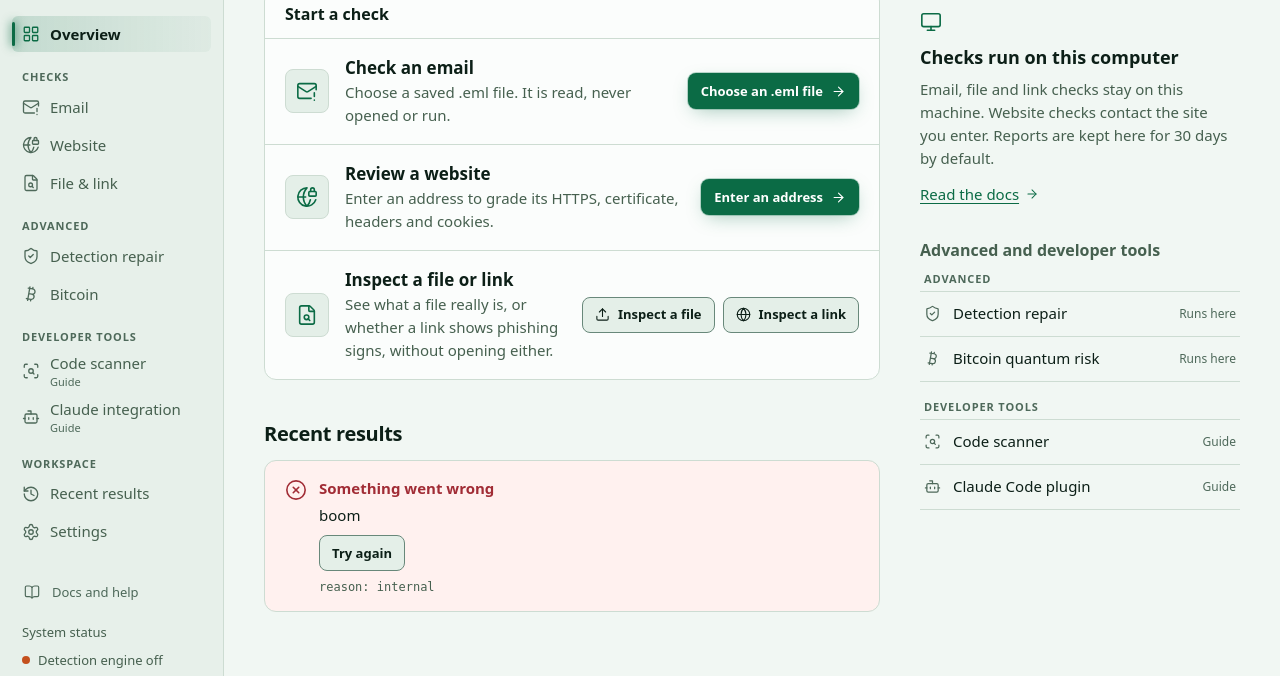
Scenario: Home › shows a fetch failure with a retry that loads the results
(page scrolled)
Expected: the message "Something went wrong boom Try again reason: internal" is shown, x1=264 y1=460 x2=880 y2=612
Click the button "Try again". click: (362, 553)
box: x1=319 y1=535 x2=405 y2=571
(page scrolled)
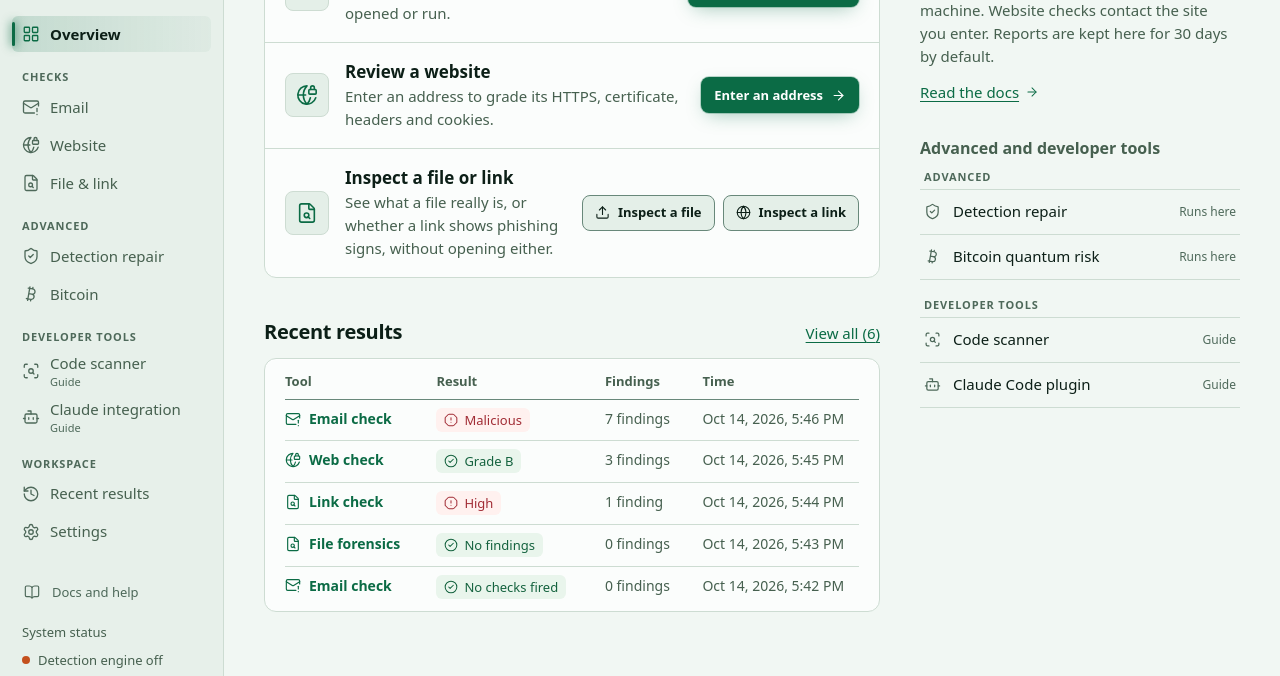
Result: the table is shown at x1=285 y1=363 x2=859 y2=607
